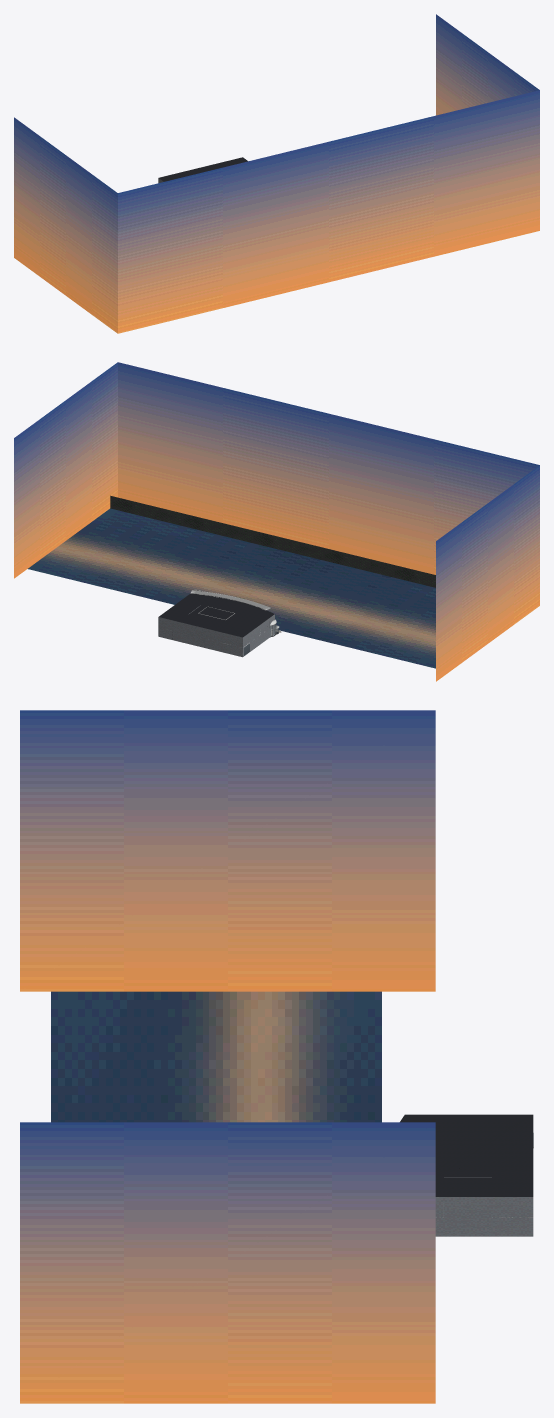
The model's file is shell_factory.glb.
The picture shows the model from 3 angles, top to bottom: view 1: azimuth 30°, elevation 25°; view 2: azimuth 150°, elevation 25°; view 3: azimuth 270°, elevation 25°; orthographic projection. The views are drawn at different scales.
Parts seen in each view (by area): view 1: Out_Sky, Out_SkySide-1, Out_SkySide1, Roof; view 2: Out_Sky, Out_Lake, Out_SkySide-1, Out_SkySide1, Out_Shore, Roof, Wall_Back, Wall_L; view 3: Out_SkySide-1, Out_SkySide1, Out_Lake, Roof, Wall_R.
Part boxes in pixels (box(x1,y1,x2,y2)): Out_Sky: box(118, 90, 539, 333); Out_SkySide-1: box(14, 117, 117, 333); Out_SkySide1: box(436, 14, 539, 115); Roof: box(159, 157, 247, 181); Out_Sky: box(118, 362, 539, 574); Out_Lake: box(28, 508, 435, 668); Out_SkySide-1: box(436, 465, 539, 681); Out_SkySide1: box(14, 362, 117, 578); Out_Shore: box(110, 495, 435, 587); Roof: box(159, 593, 274, 637); Wall_Back: box(158, 617, 242, 657); Wall_L: box(243, 614, 274, 656); Out_SkySide-1: box(20, 710, 435, 991); Out_SkySide1: box(20, 1122, 435, 1403); Out_Lake: box(51, 991, 381, 1122); Roof: box(400, 1114, 533, 1196); Wall_R: box(435, 1197, 533, 1236).
Size of the model in its own units: 190 by 60.51 by 100.
335 materials, 306 textured.
